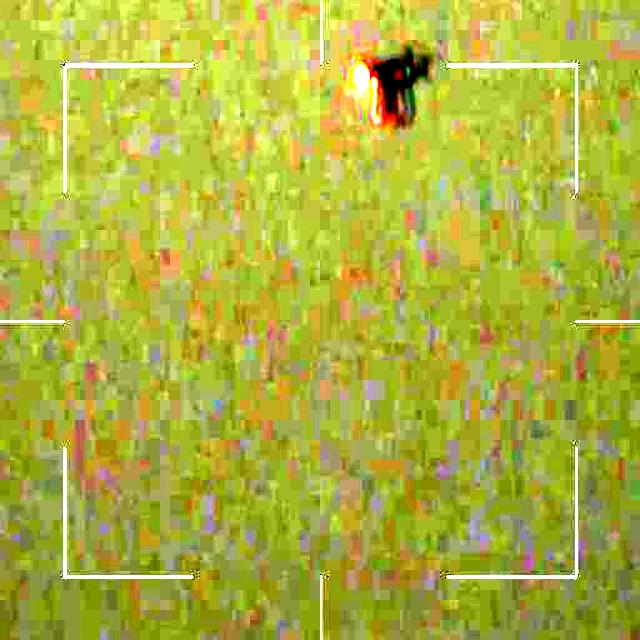bird: (345, 39, 438, 132)
